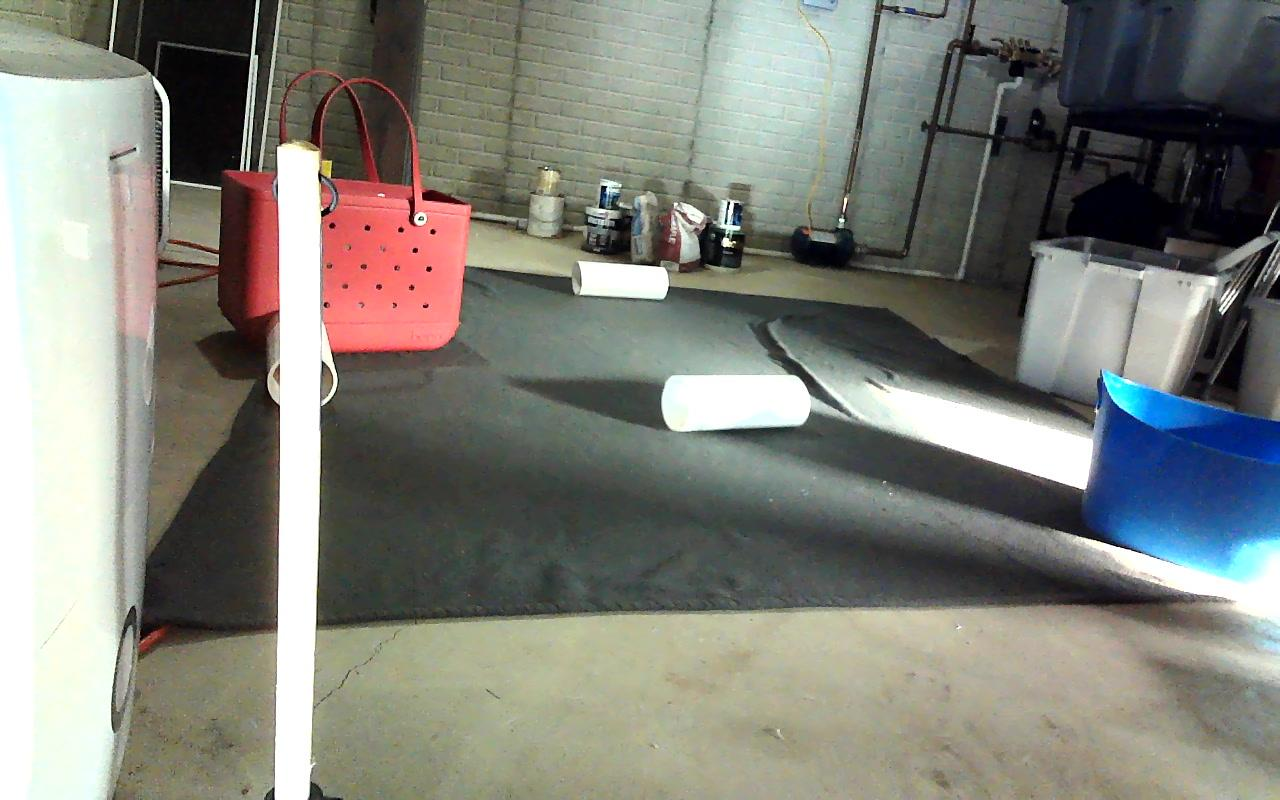coral: (662, 372, 808, 432), (267, 311, 336, 407), (573, 258, 667, 299)
